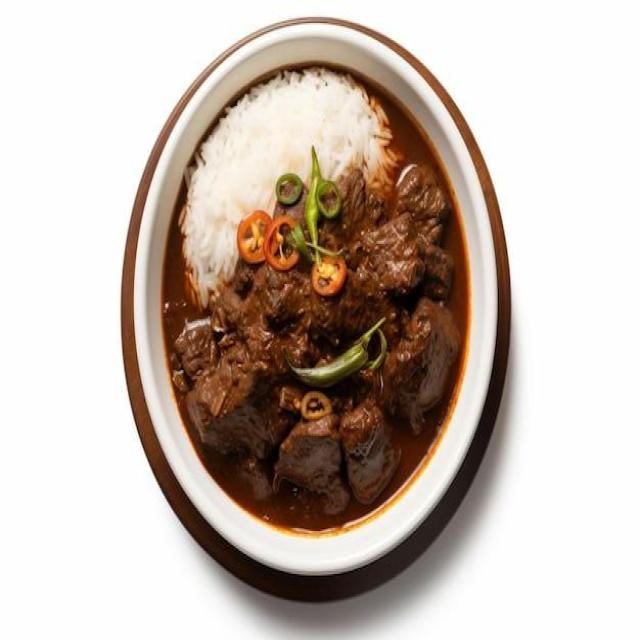Rawon: (175, 109, 458, 515)
